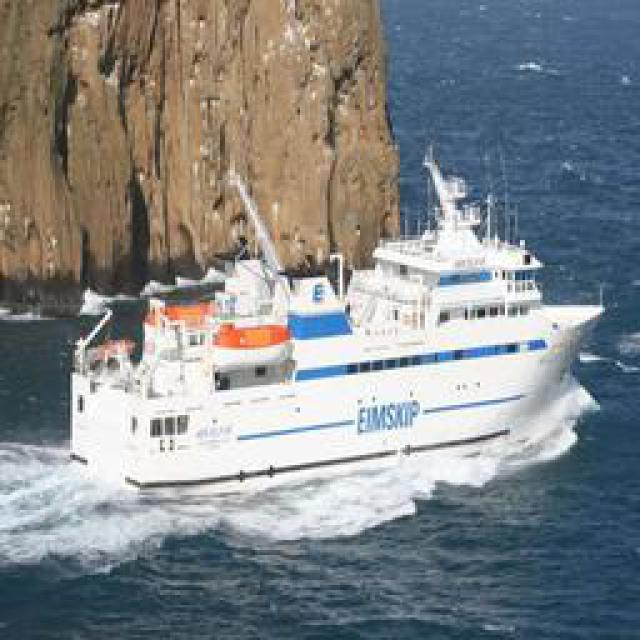Ship: (94, 163, 609, 501)
